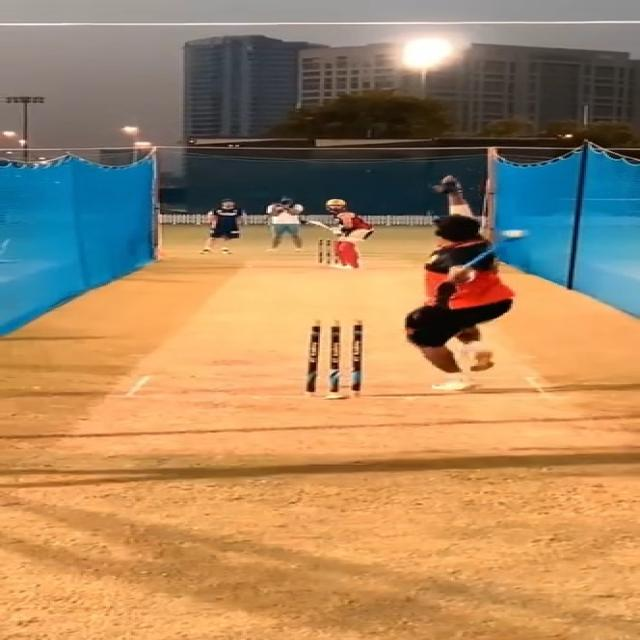batsman: (307, 198, 375, 270)
